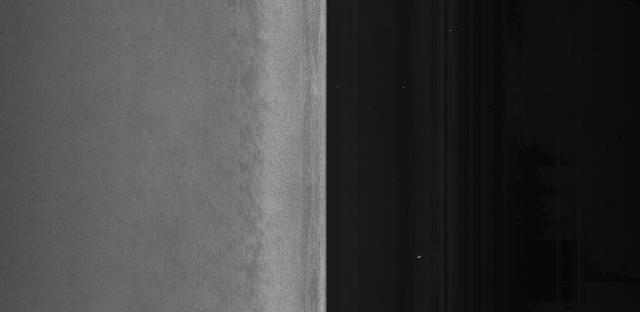silk_spot: (219, 134, 273, 218)
